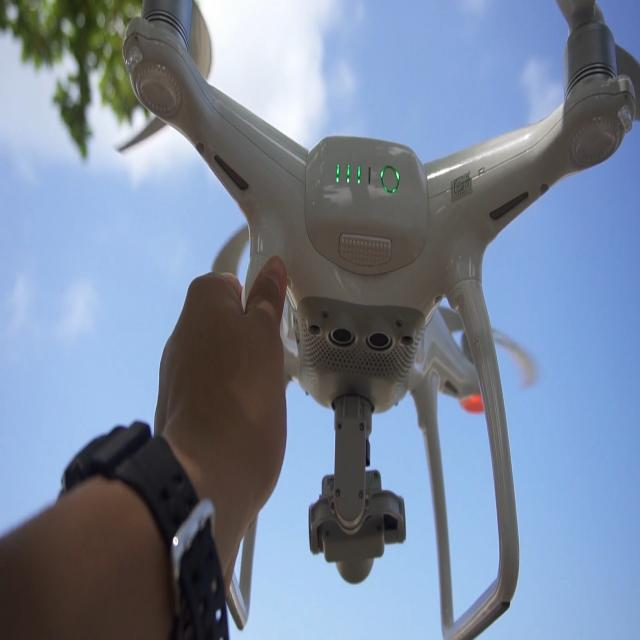Drone: (100, 0, 624, 582)
